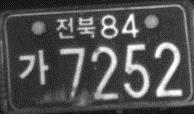2: (153, 41, 183, 98), (91, 44, 118, 101)
4: (120, 12, 139, 39)
5: (123, 43, 150, 98)
7: (57, 46, 86, 98)
8: (100, 13, 119, 39)
가: (18, 47, 50, 85)
전북_O: (55, 15, 96, 39)
